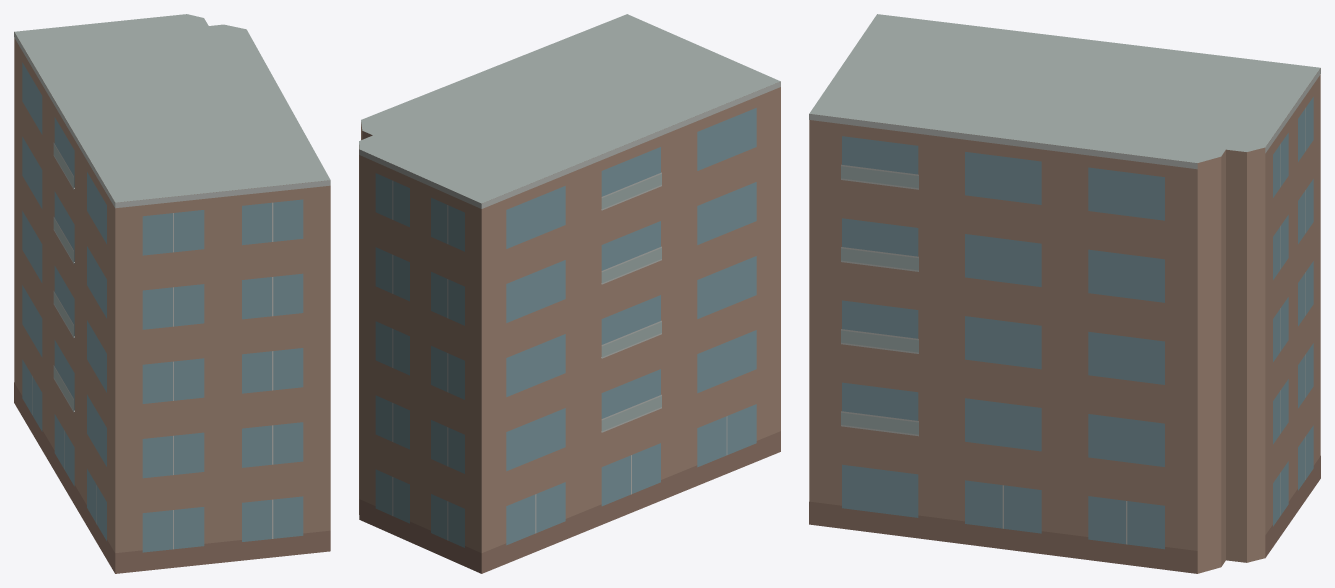
File: survey-upis-32976052.glb
3 renders of one model, left to right at view 1: azimuth 30°, elevation 25°; view 2: azimuth 150°, elevation 25°; view 3: azimuth 270°, elevation 25°, orthographic. The views are drawn at different scales.
Parts seen in each view (by area): view 1: survey-upis-32976052.tmp; view 2: survey-upis-32976052.tmp; view 3: survey-upis-32976052.tmp.
Boxes of the visible parts, x1,y1,x2,y2 form: survey-upis-32976052.tmp: (14,14,330,573); survey-upis-32976052.tmp: (359,14,780,573); survey-upis-32976052.tmp: (809,14,1320,573).
Size of the model in its own units: 12.7 by 16.3 by 18.41.
